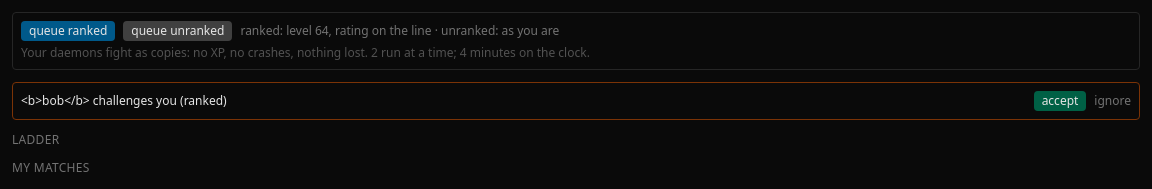
Scenario: ArenaPanel challenges › accepts an incoming challenge once, dismissing it when it succeeds, and keeps it when refused
Click the button "accept".
click(1060, 101)  # box [1034,91,1086,111]
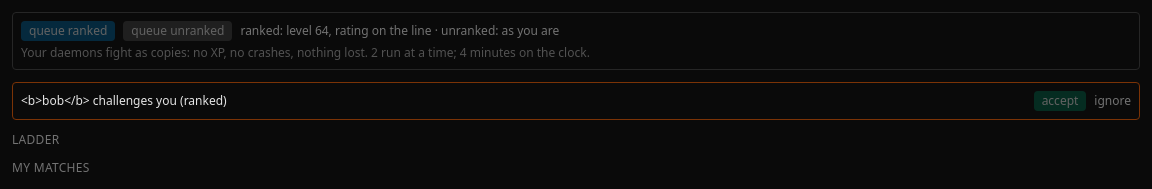
Click the button "accept".
click(1060, 101)  # box [1034,91,1086,111]
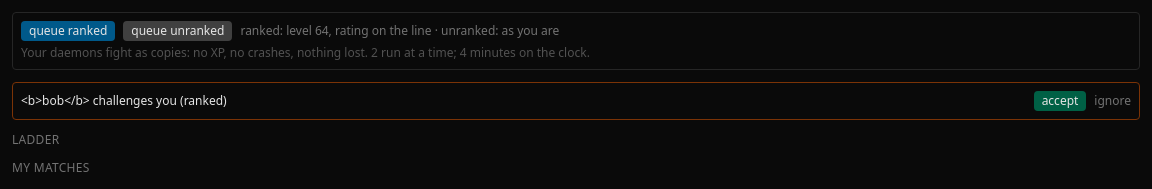
Expected: the element with test id "arena-challenge" is shown, [12,82,1140,120]
Click the button "accept".
click(1060, 101)  # box [1034,91,1086,111]
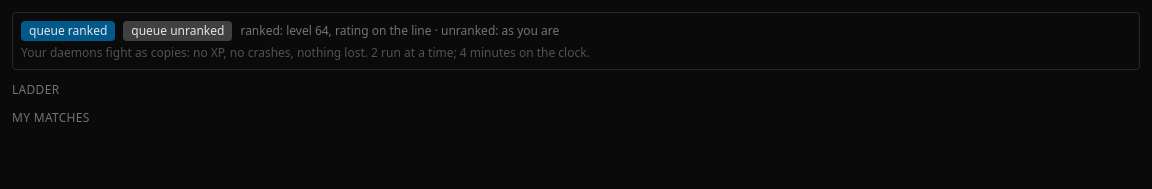
Result: the element with test id "arena-challenge" is gone
